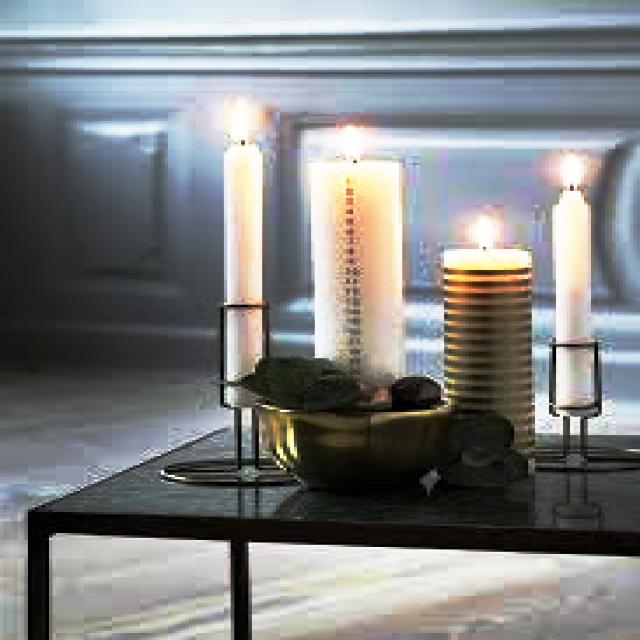api: (547, 150, 606, 192), (218, 94, 260, 152), (323, 120, 372, 157), (473, 215, 501, 252)
